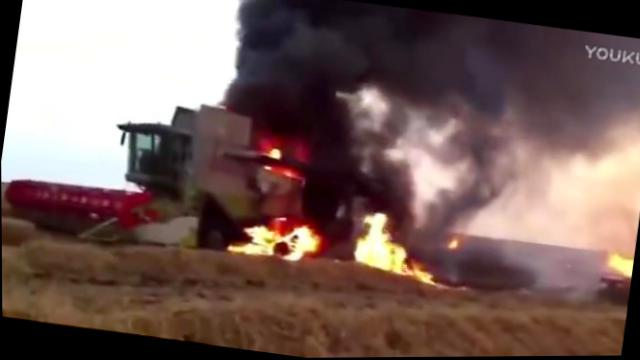fire: (351, 210, 388, 265), (225, 220, 275, 256), (285, 223, 316, 263), (378, 244, 406, 274), (400, 264, 435, 283), (605, 253, 633, 276)
